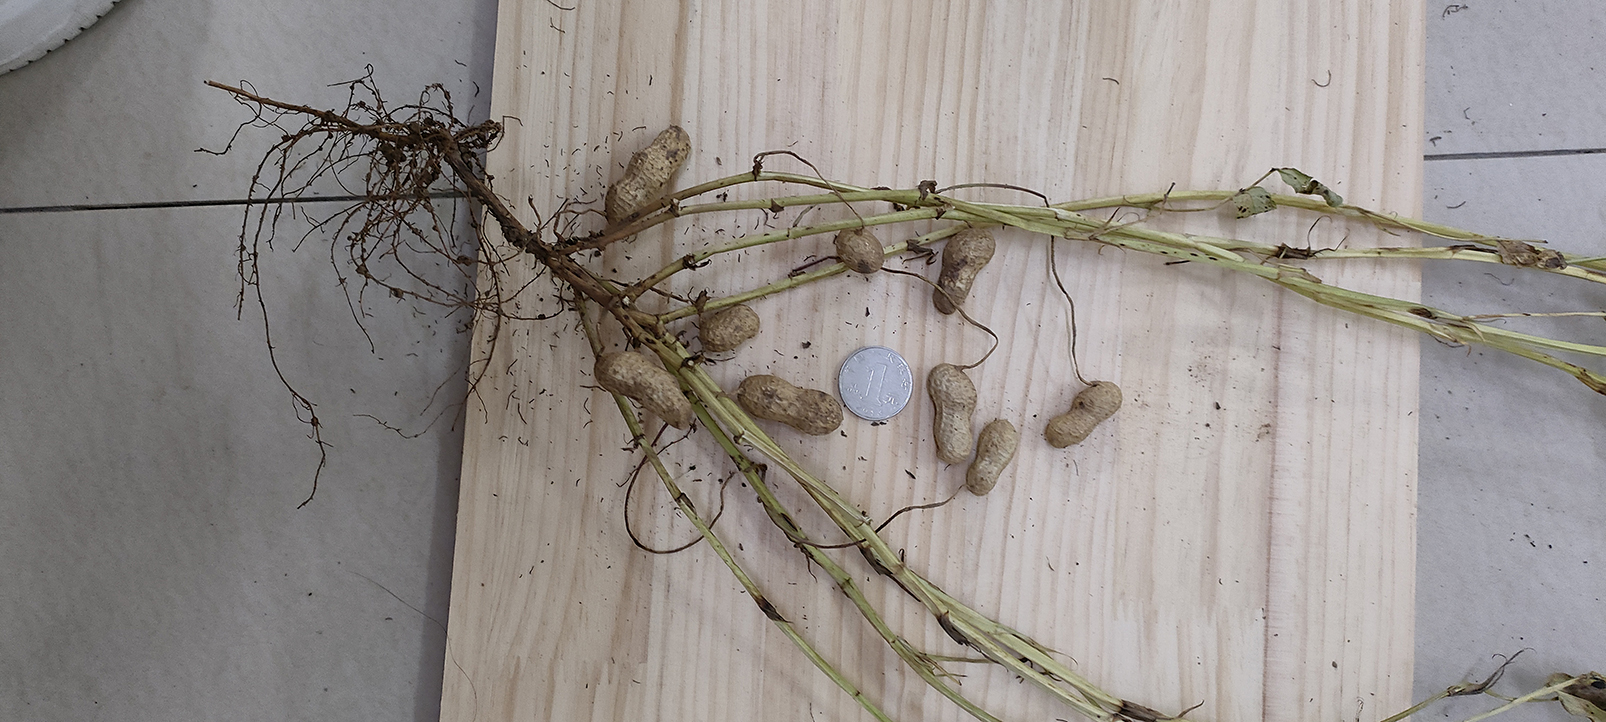h: (603, 125, 692, 226), (593, 350, 691, 428), (737, 374, 844, 435), (927, 363, 978, 465), (1045, 381, 1123, 445), (966, 418, 1019, 497), (699, 304, 762, 351), (836, 225, 885, 273)
l: (933, 227, 999, 314)
